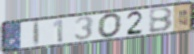1: (53, 19, 64, 44)
2: (126, 10, 145, 36)
3: (74, 15, 96, 42)
B: (148, 7, 174, 34)
I: (32, 20, 42, 47)
O: (97, 12, 123, 39)
